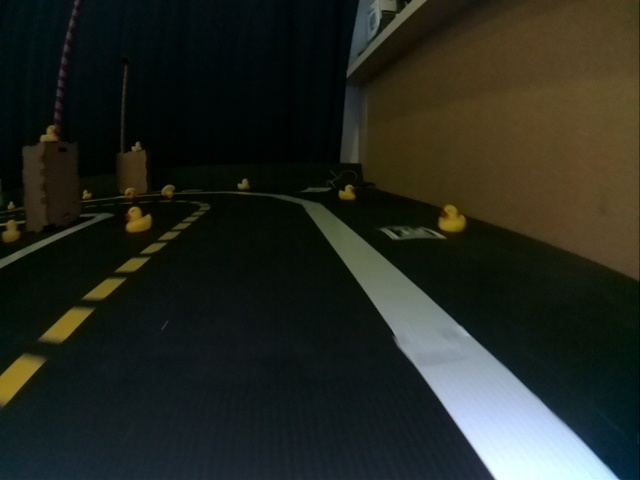Duckie: (438, 204, 466, 233), (125, 207, 149, 232), (1, 220, 20, 242), (40, 125, 58, 141), (339, 185, 355, 200), (161, 185, 175, 197), (238, 179, 248, 190), (131, 141, 141, 151), (7, 201, 16, 210), (125, 188, 135, 196), (82, 190, 92, 198)
QR code: (381, 226, 444, 240)
